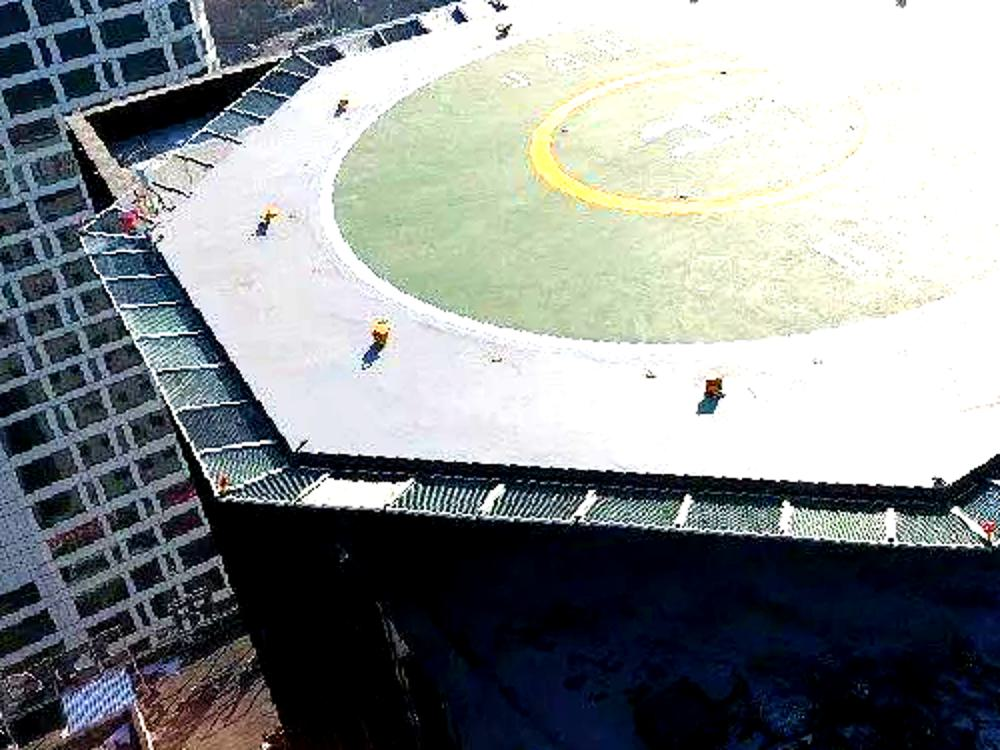Apron: (529, 51, 876, 221)
